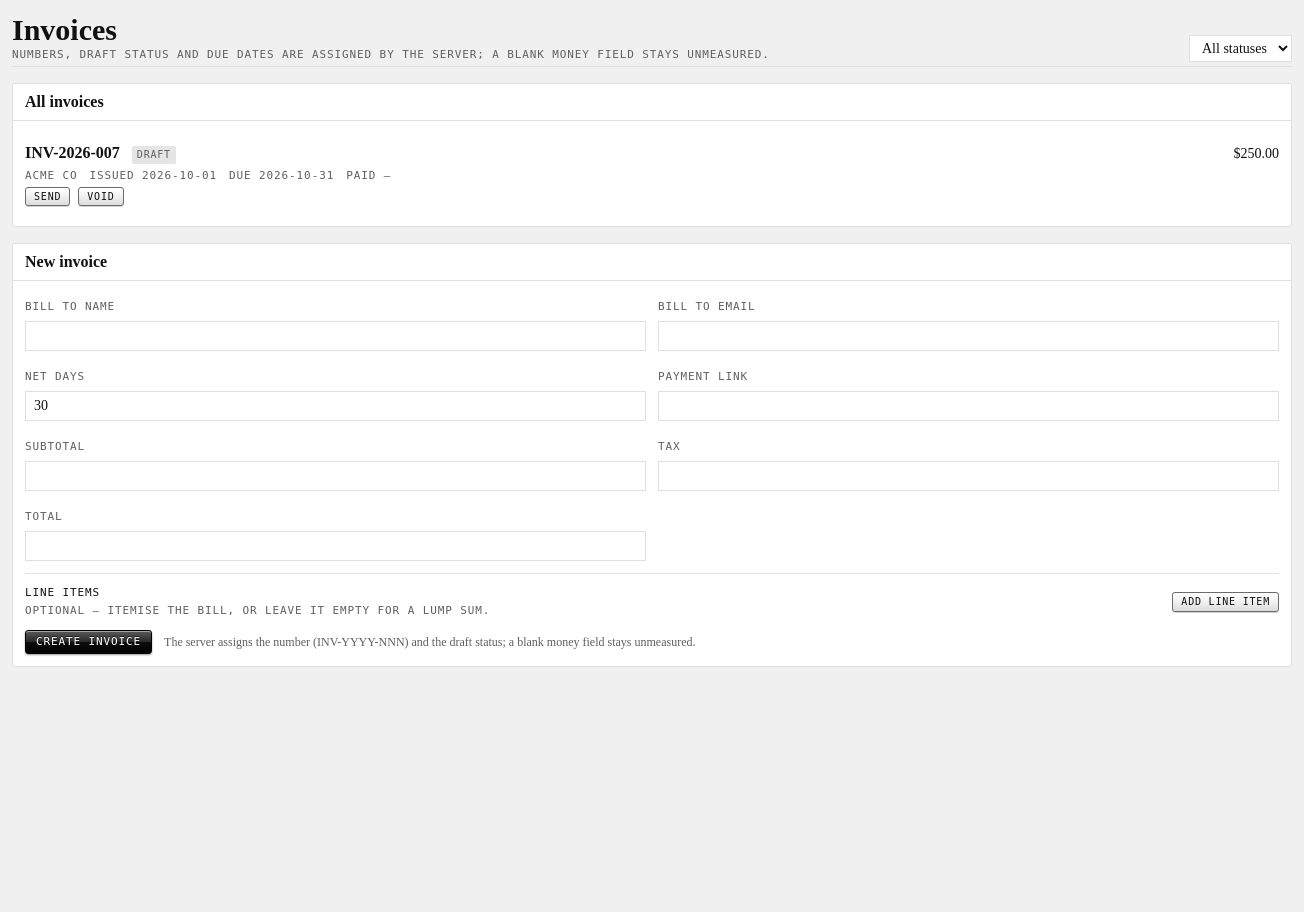
it: InvoicesPage — send / void (POST /invoices/{id}/send|void) › sends with the real path and replaces the row from the server's answer
Click the button "Send" at (48, 196), box [25, 186, 70, 206]
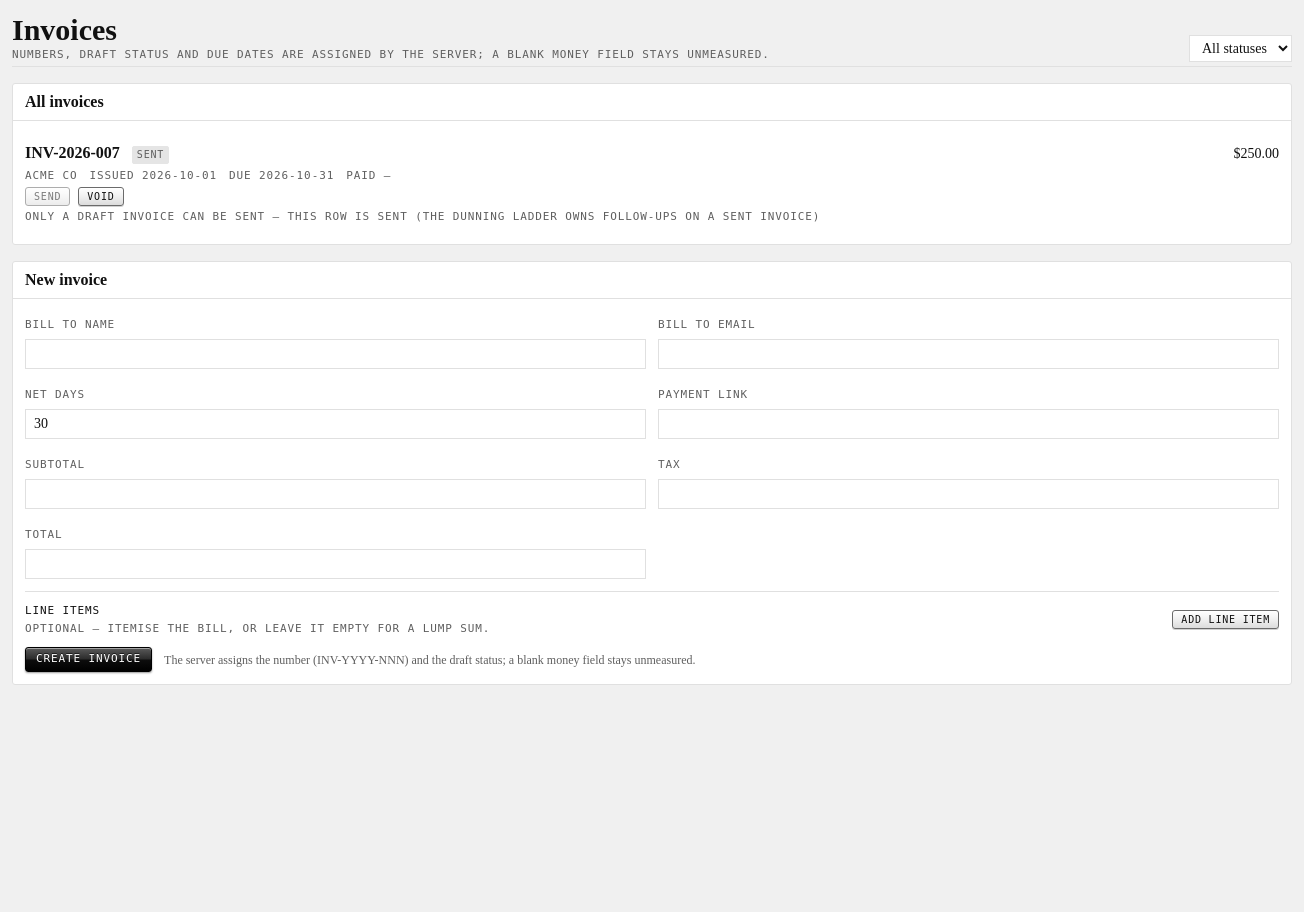
Now the text with test id "invoice-status" reads "sent", box [137, 149, 164, 160]
